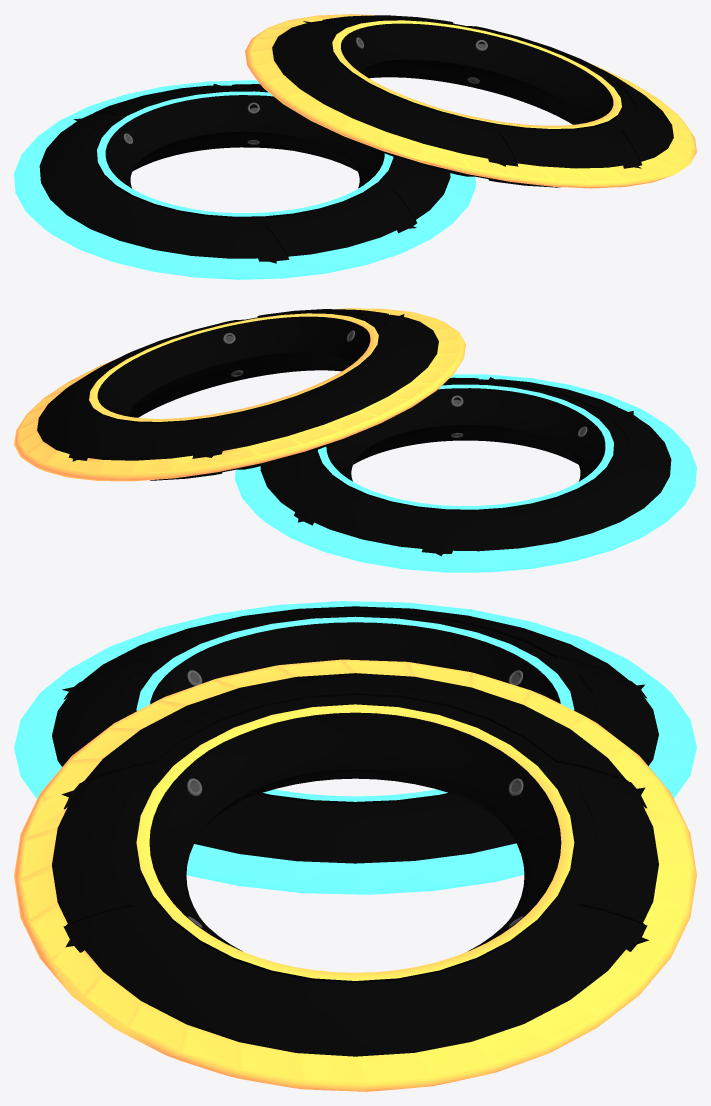
Rendered from aether-core-rings.glb.
3 views of the same model, one above another, from view 1: azimuth 30°, elevation 25°; view 2: azimuth 150°, elevation 25°; view 3: azimuth 270°, elevation 25° (orthographic). The views are drawn at different scales.
Parts seen in each view (by area): view 1: Object_6, Object_2, Object_3; view 2: Object_6, Object_2, Object_3; view 3: Object_6, Object_3, Object_2.
Boxes of the visible parts, left/top/right/bottom form: Object_6: left=39, top=15, right=673, bottom=263; Object_2: left=14, top=80, right=476, bottom=279; Object_3: left=245, top=14, right=696, bottom=188; Object_6: left=37, top=309, right=671, bottom=556; Object_2: left=235, top=374, right=696, bottom=572; Object_3: left=14, top=308, right=465, bottom=481; Object_6: left=52, top=606, right=658, bottom=1056; Object_3: left=14, top=659, right=696, bottom=1091; Object_2: left=14, top=601, right=696, bottom=894.
Size of the model in its own units: 40.36 by 7.4 by 26.07.
